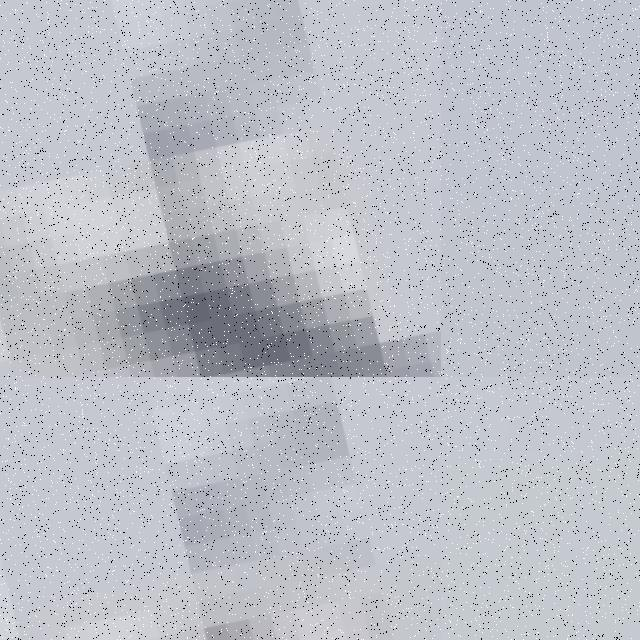drone: (0, 0, 441, 377), (0, 377, 441, 640)
